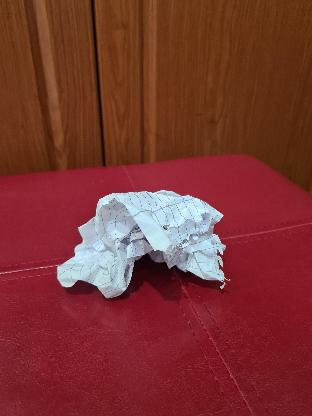Paper: (60, 190, 226, 300)
